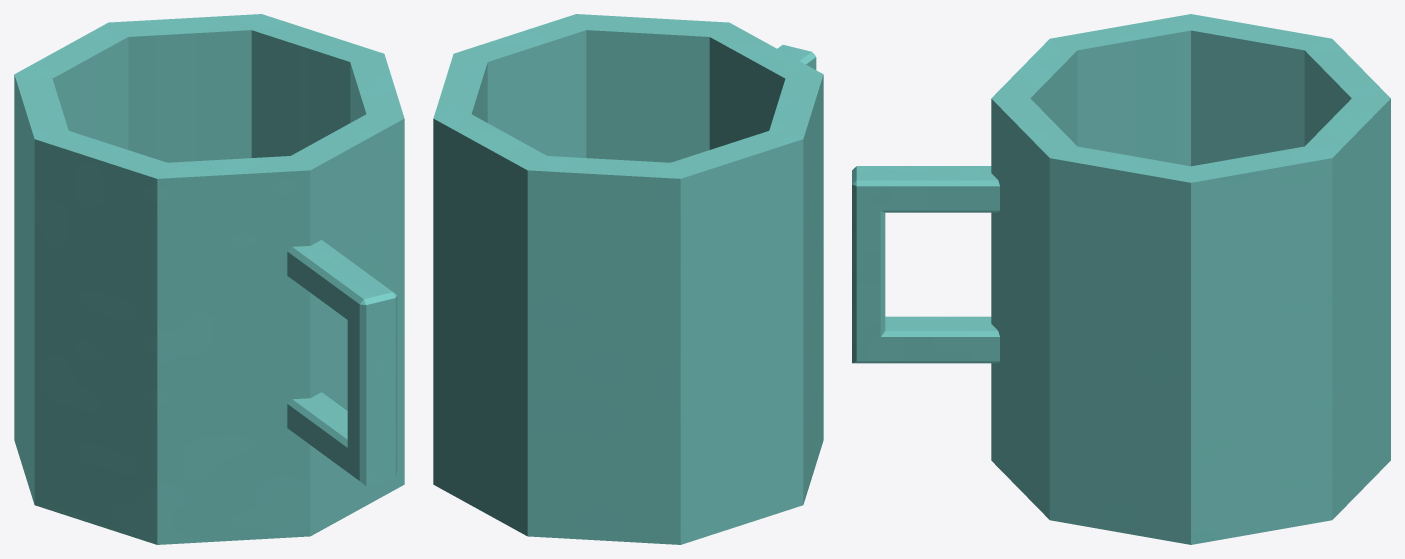
The model's file is Mug_02.fbx.
The picture shows the model from 3 angles, left to right: view 1: azimuth 30°, elevation 25°; view 2: azimuth 150°, elevation 25°; view 3: azimuth 270°, elevation 25°; orthographic projection.
Visible parts, largest first — view 1: Mug_02; view 2: Mug_02; view 3: Mug_02.
Part boxes in pixels (x1,y1,x2,y2): Mug_02: (14, 14, 404, 544); Mug_02: (433, 14, 823, 544); Mug_02: (852, 14, 1390, 544).
Size of the model in its own units: 0.1401 by 0.1401 by 0.1889.
